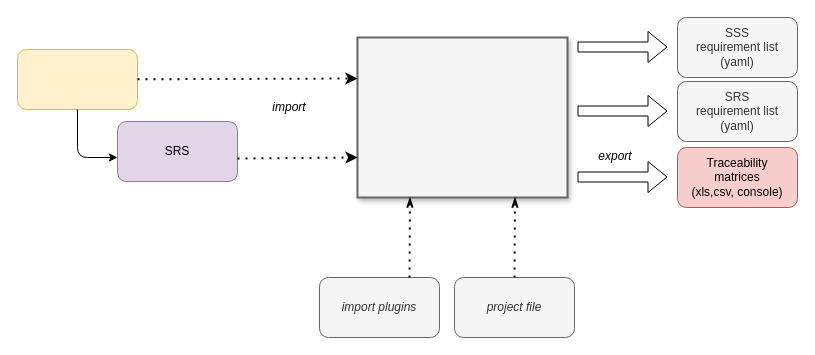
Image size: 815x355. Some labels were removed from this diagram. The shapes that lost their labels are listed below. From the top down, each one's centre as x and y in pixels, then its label:
pixel 77 79: SSS
pixel 463 118: reqv
